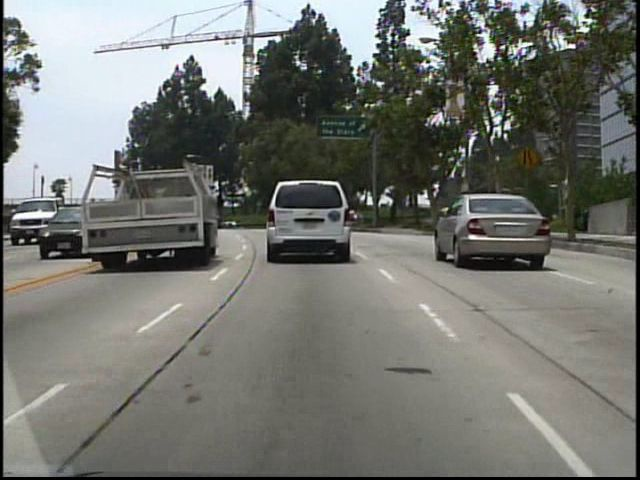person: (446, 193, 465, 234)
